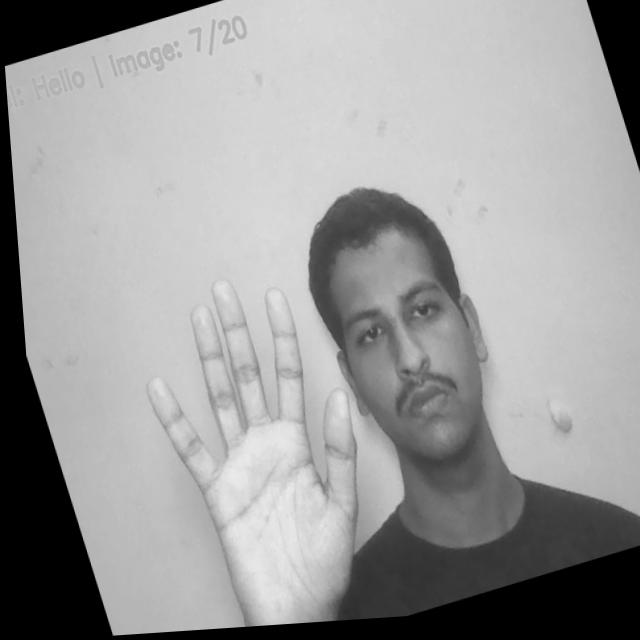Hello: (100, 249, 401, 636)
